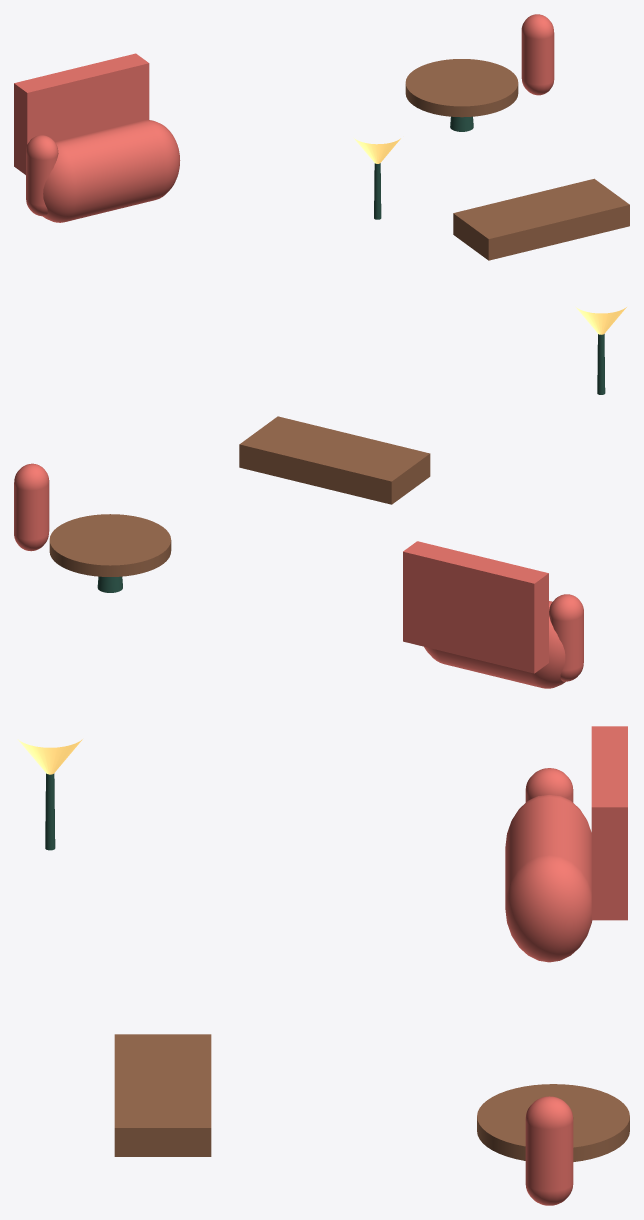
File: furniture-kit.glb
3 renders of one model, top to bottom at view 1: azimuth 30°, elevation 25°; view 2: azimuth 150°, elevation 25°; view 3: azimuth 270°, elevation 25°, orthographic. The views are drawn at different scales.
Parts seen in each view (by area): view 1: SOFA_SEAT, SOFA_BACK, SHELF, TABLE_TOP, SOFA_ARM_R, SOFA_ARM_L, LAMP_SHADE, LAMP_STEM; view 2: SOFA_BACK, SHELF, TABLE_TOP, SOFA_ARM_R, SOFA_SEAT, SOFA_ARM_L, LAMP_SHADE; view 3: SOFA_SEAT, SHELF, SOFA_BACK, TABLE_TOP, SOFA_ARM_R, SOFA_ARM_L, LAMP_SHADE, LAMP_STEM.
Part boxes in pixels (x1,y1,x2,y2): SOFA_SEAT: (43,120,180,222); SOFA_BACK: (14,53,149,174); SHELF: (453,178,629,260); TABLE_TOP: (405,59,518,117); SOFA_ARM_R: (521,14,554,95); SOFA_ARM_L: (26,135,58,216); LAMP_SHADE: (353,137,400,163); LAMP_STEM: (374,163,381,219); SOFA_BACK: (403,541,548,673); SHELF: (239,416,430,504); TABLE_TOP: (49,514,171,576); SOFA_ARM_R: (14,463,49,551); SOFA_SEAT: (424,601,565,688); SOFA_ARM_L: (549,594,583,681); LAMP_SHADE: (575,306,626,334); SOFA_SEAT: (505,795,592,962); SHELF: (114,1034,211,1156); SOFA_BACK: (591,726,627,920); TABLE_TOP: (477,1084,629,1161); SOFA_ARM_R: (525,1096,573,1205); SOFA_ARM_L: (525,768,573,802); LAMP_SHADE: (17,739,82,774); LAMP_STEM: (45,773,55,850).
Size of the model in its own units: 4.08 by 1.46 by 3.06.
